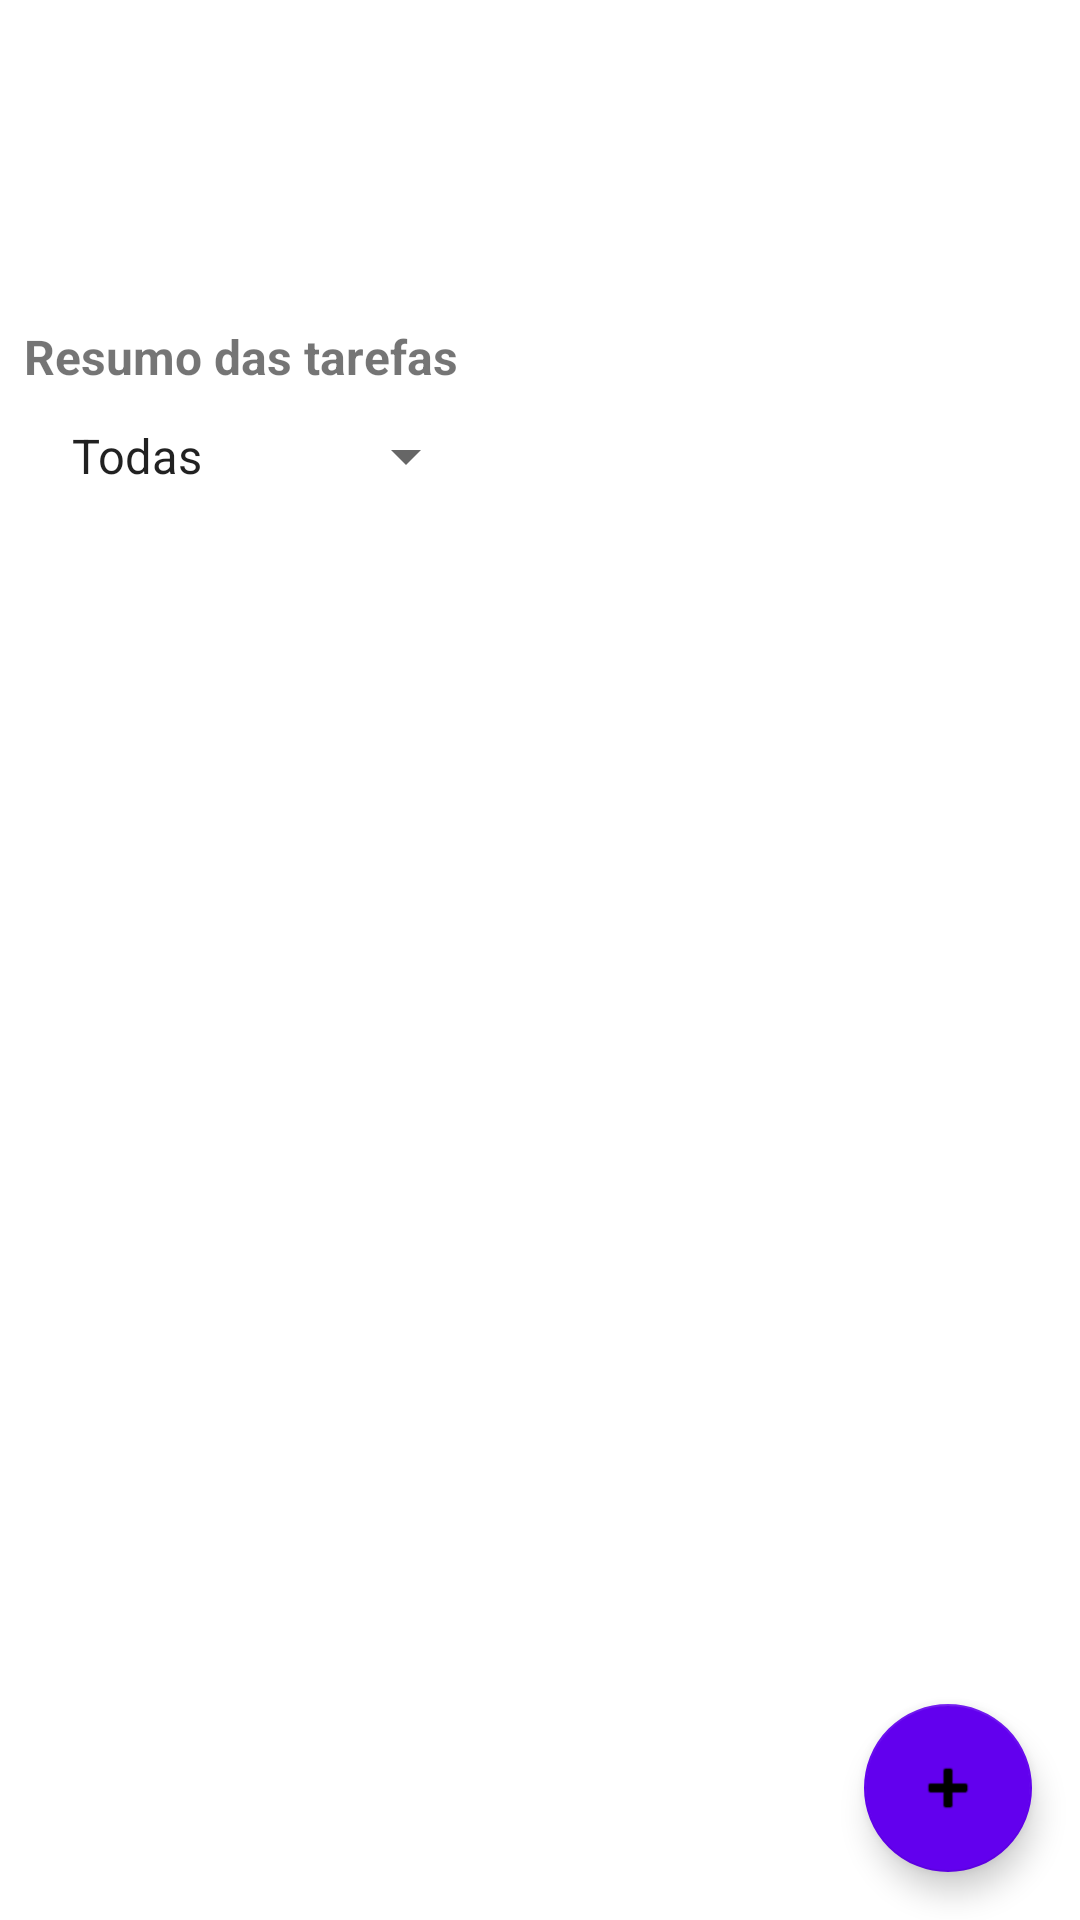

Icon bounding boxes for this 1080*1920 phone screenshot, format (x1, y1, x2, y2):
Adicionar nova tarefa: (864, 1704, 1032, 1872)
